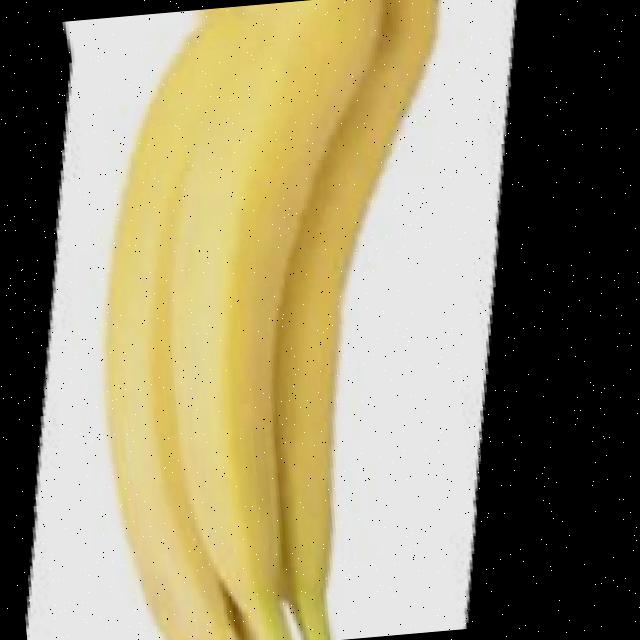banana: (23, 0, 519, 640)
